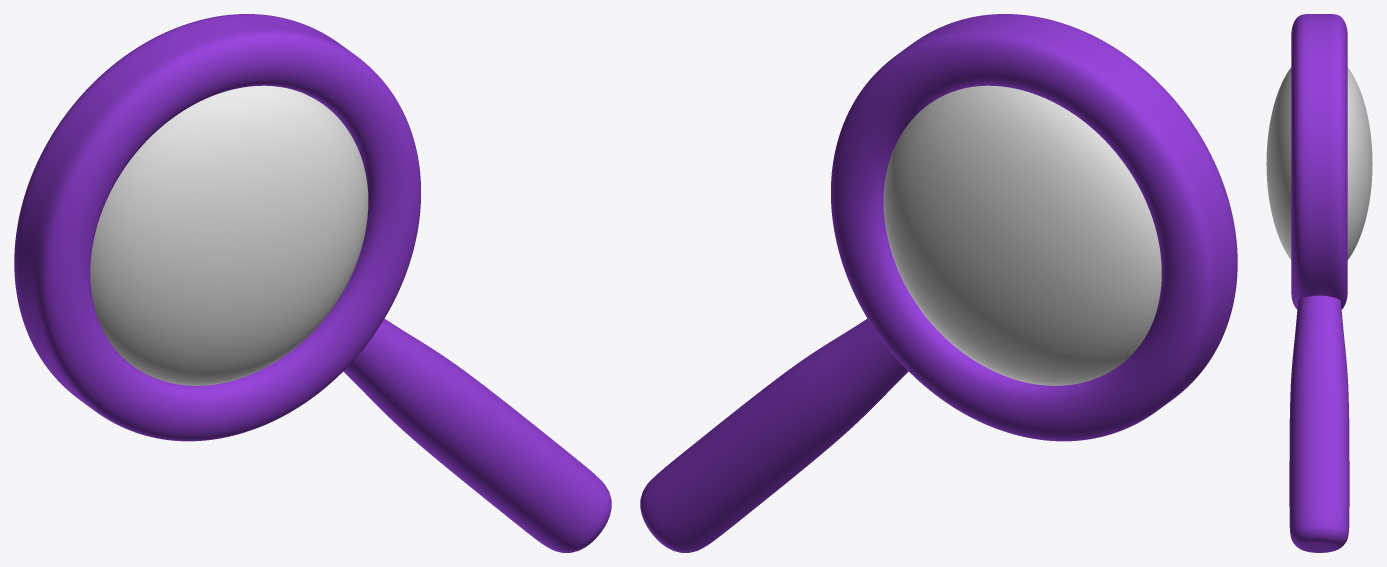
Rendered from zoom.fbx.
3 renders of one model, left to right at view 1: azimuth 30°, elevation 25°; view 2: azimuth 150°, elevation 25°; view 3: azimuth 270°, elevation 25°, orthographic. The views are drawn at different scales.
Parts seen in each view (by area): view 1: Outer; view 2: Outer; view 3: Outer.
Part boxes in pixels (box(x1,y1,x2,y2)): Outer: box(14, 14, 611, 552); Outer: box(640, 14, 1237, 552); Outer: box(1266, 14, 1372, 552).
Size of the model in its own units: 178 by 178 by 41.59.
